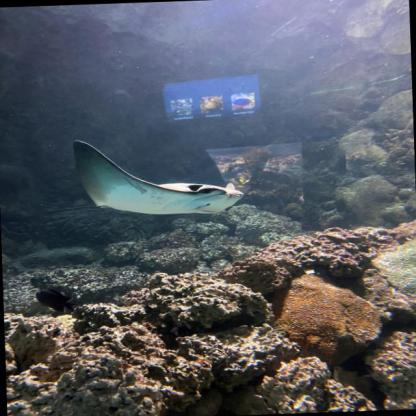fish: (35, 287, 75, 314)
stingray: (72, 134, 244, 218)
